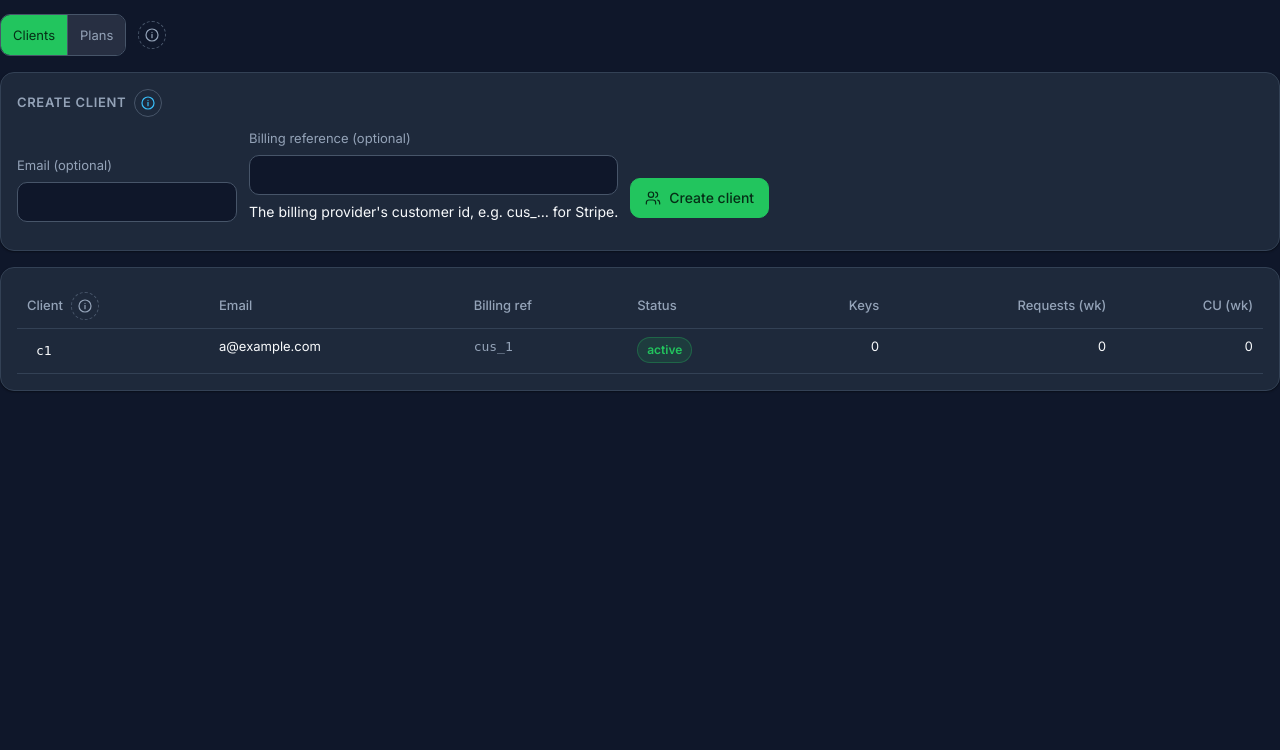
Test: plan contract › refuses an empty only-these-models list instead of widening it
Check: the text "a@example.com" is shown, box left=209, top=328, right=464, bottom=373
Click the tab "Plans".
click(96, 35)  # box left=67, top=15, right=125, bottom=55
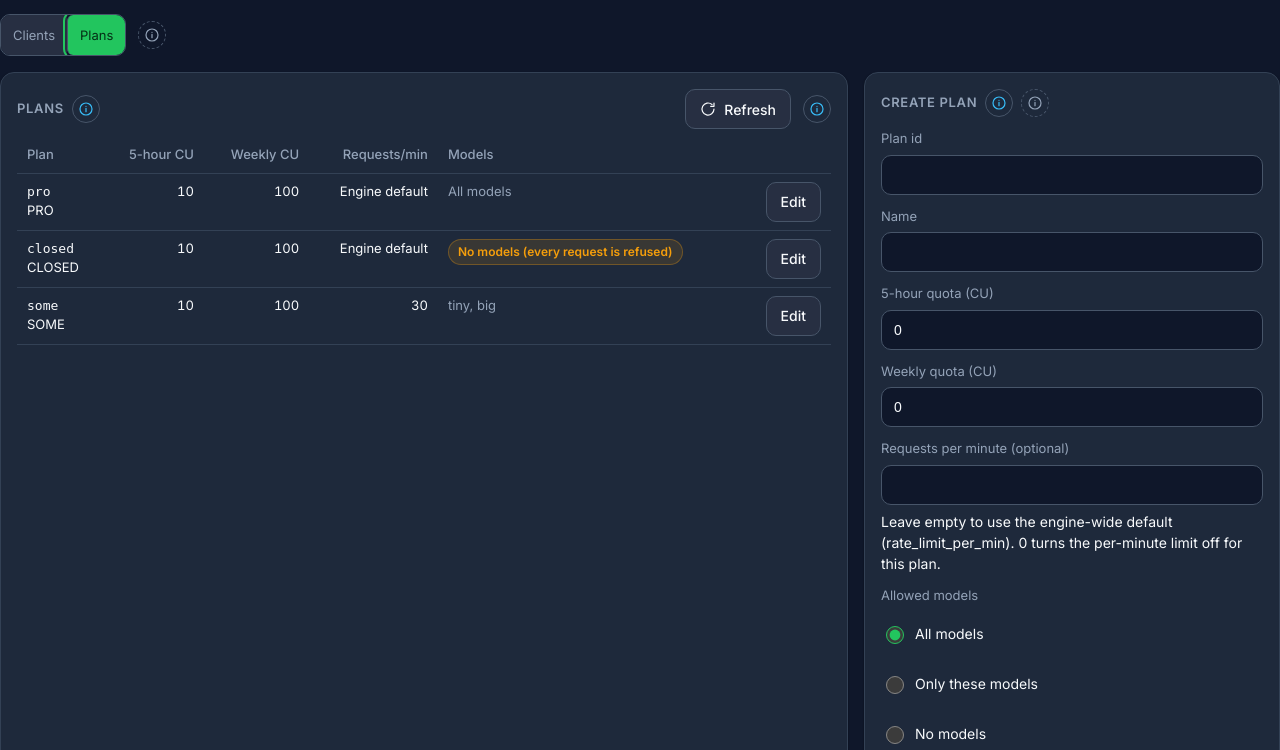
Click the button with aria-label "Edit plan some".
click(793, 316)  # box left=766, top=296, right=821, bottom=336
(page scrolled)
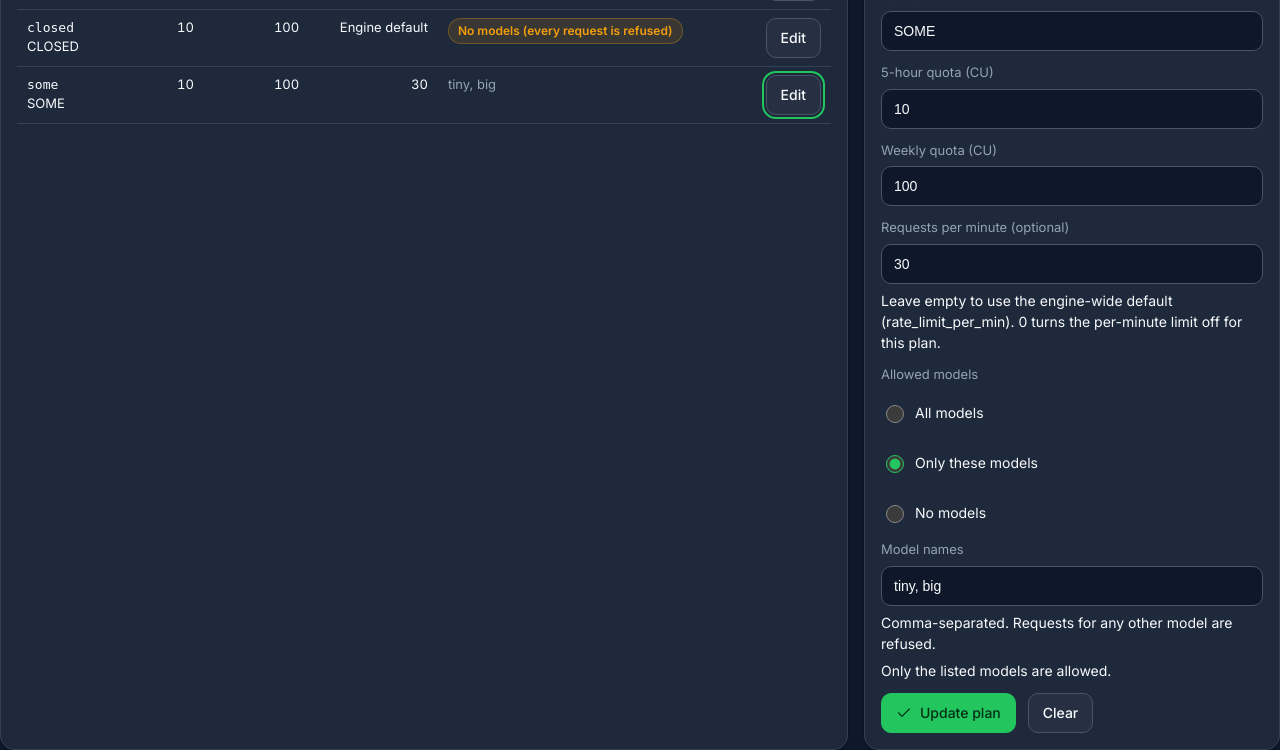
Replace the text in the field labelled "Model names" with " , " at (1072, 586), box left=881, top=566, right=1263, bottom=606
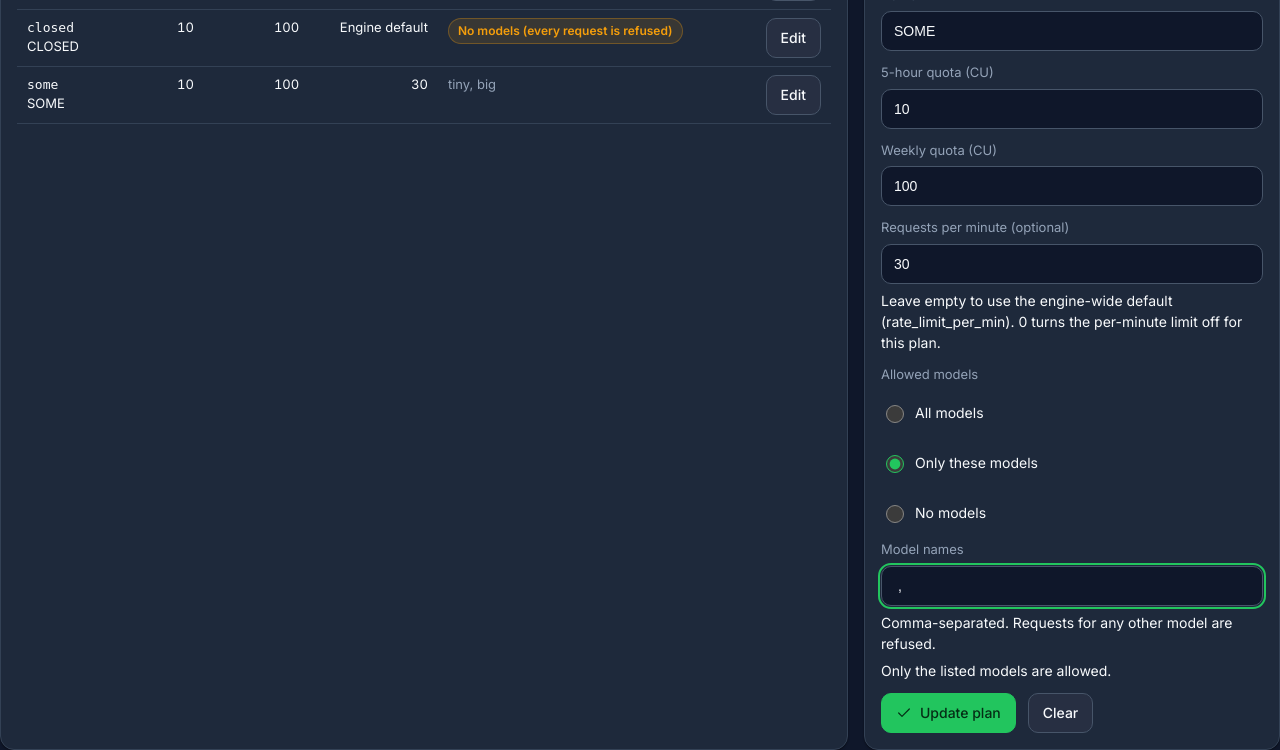
Click the button "Update plan".
click(948, 712)  # box left=881, top=692, right=1016, bottom=732
(page scrolled)
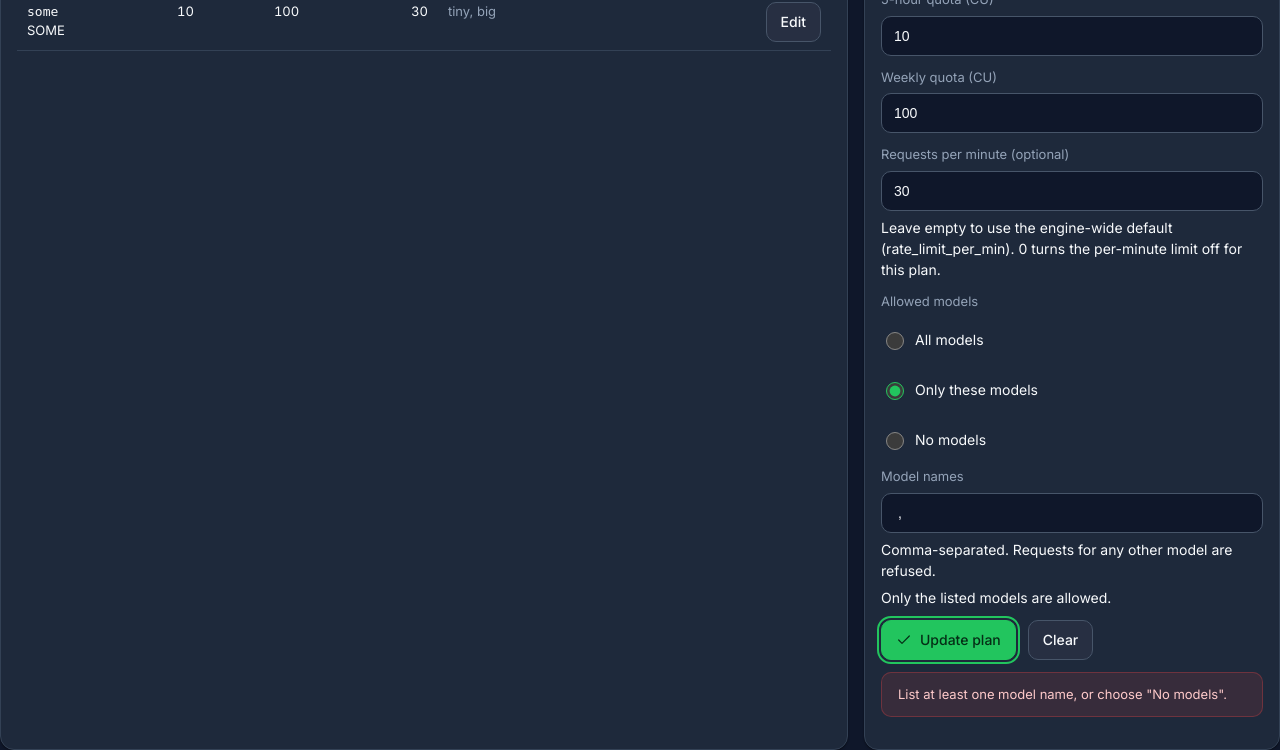
Check: the message shows "choose \"No models\"", box left=898, top=686, right=1227, bottom=702
